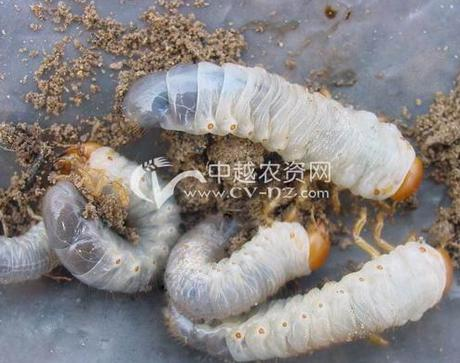grub: (116, 53, 438, 202)
